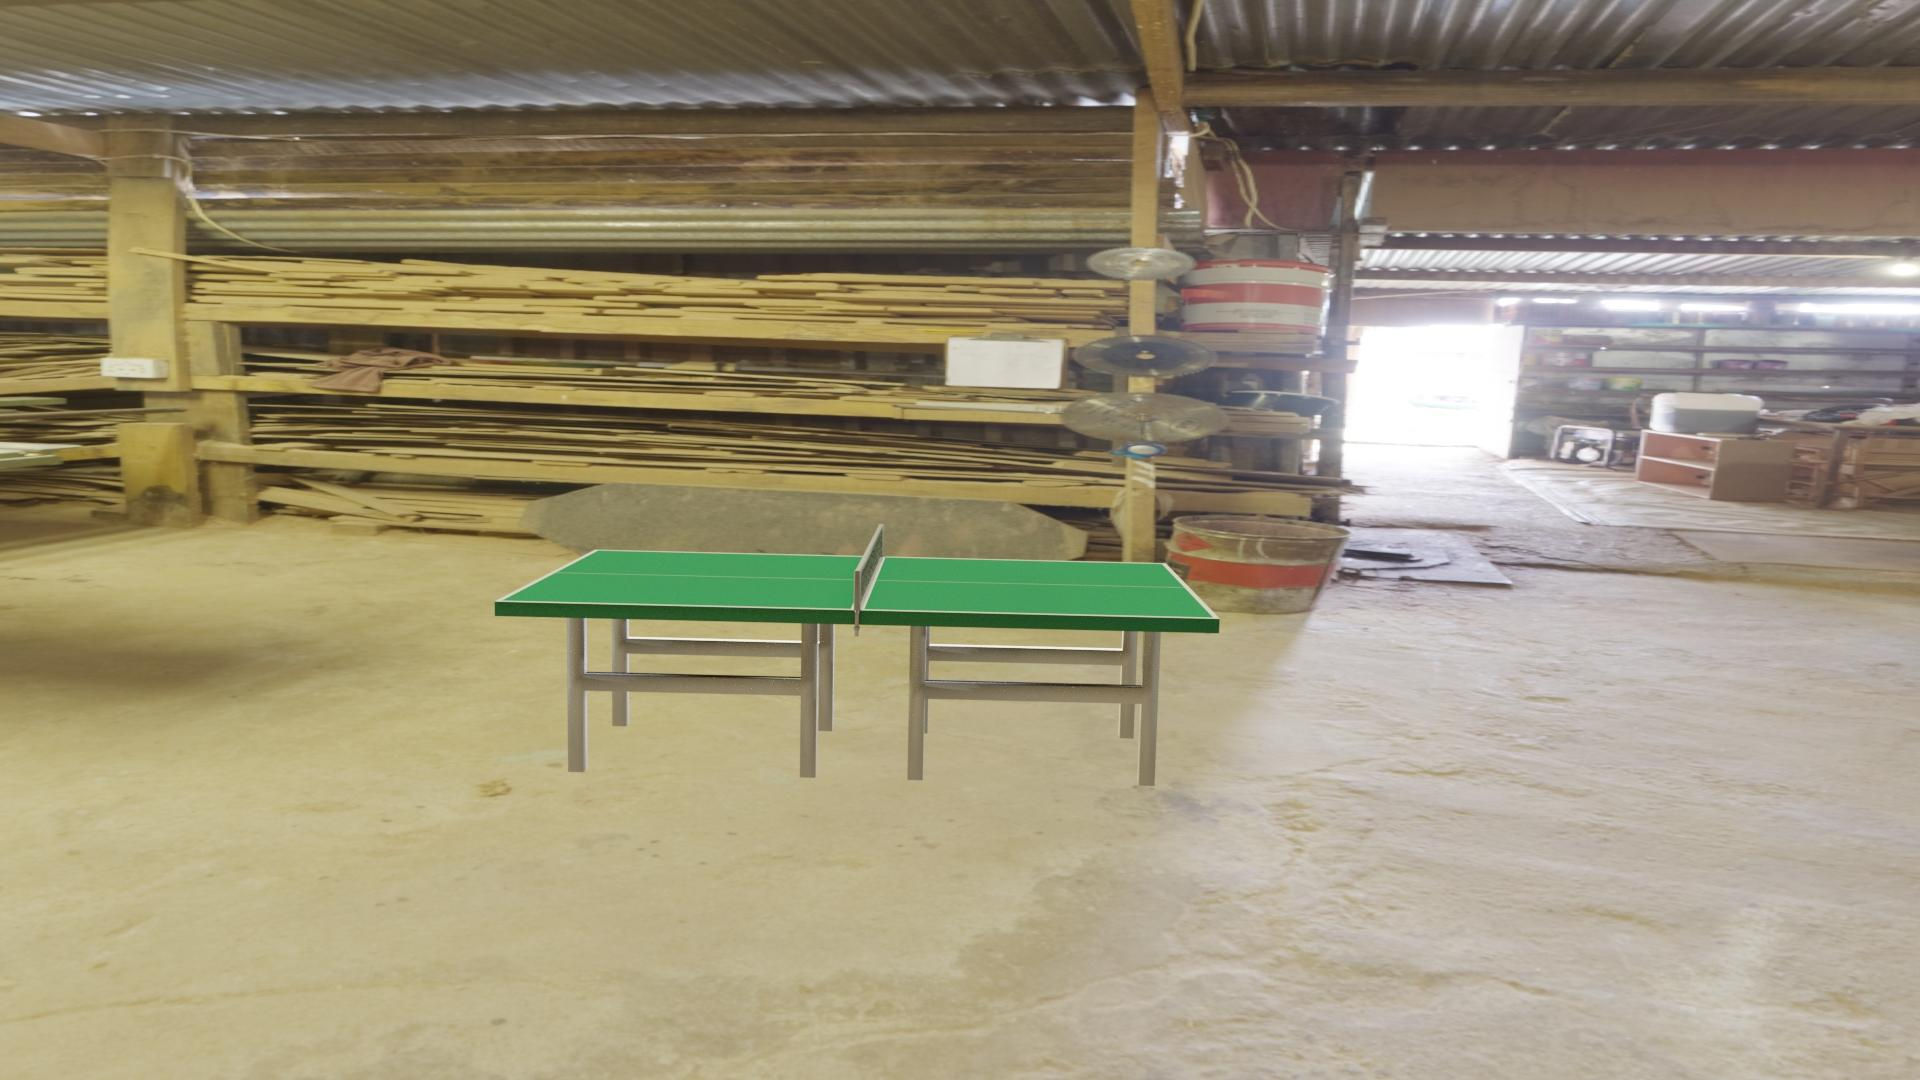table: (501, 550, 1213, 617)
